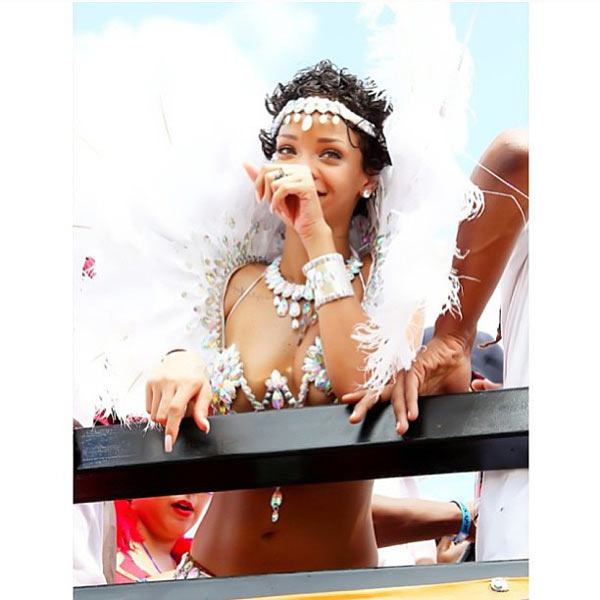face: (269, 103, 356, 220), (136, 436, 216, 538)
